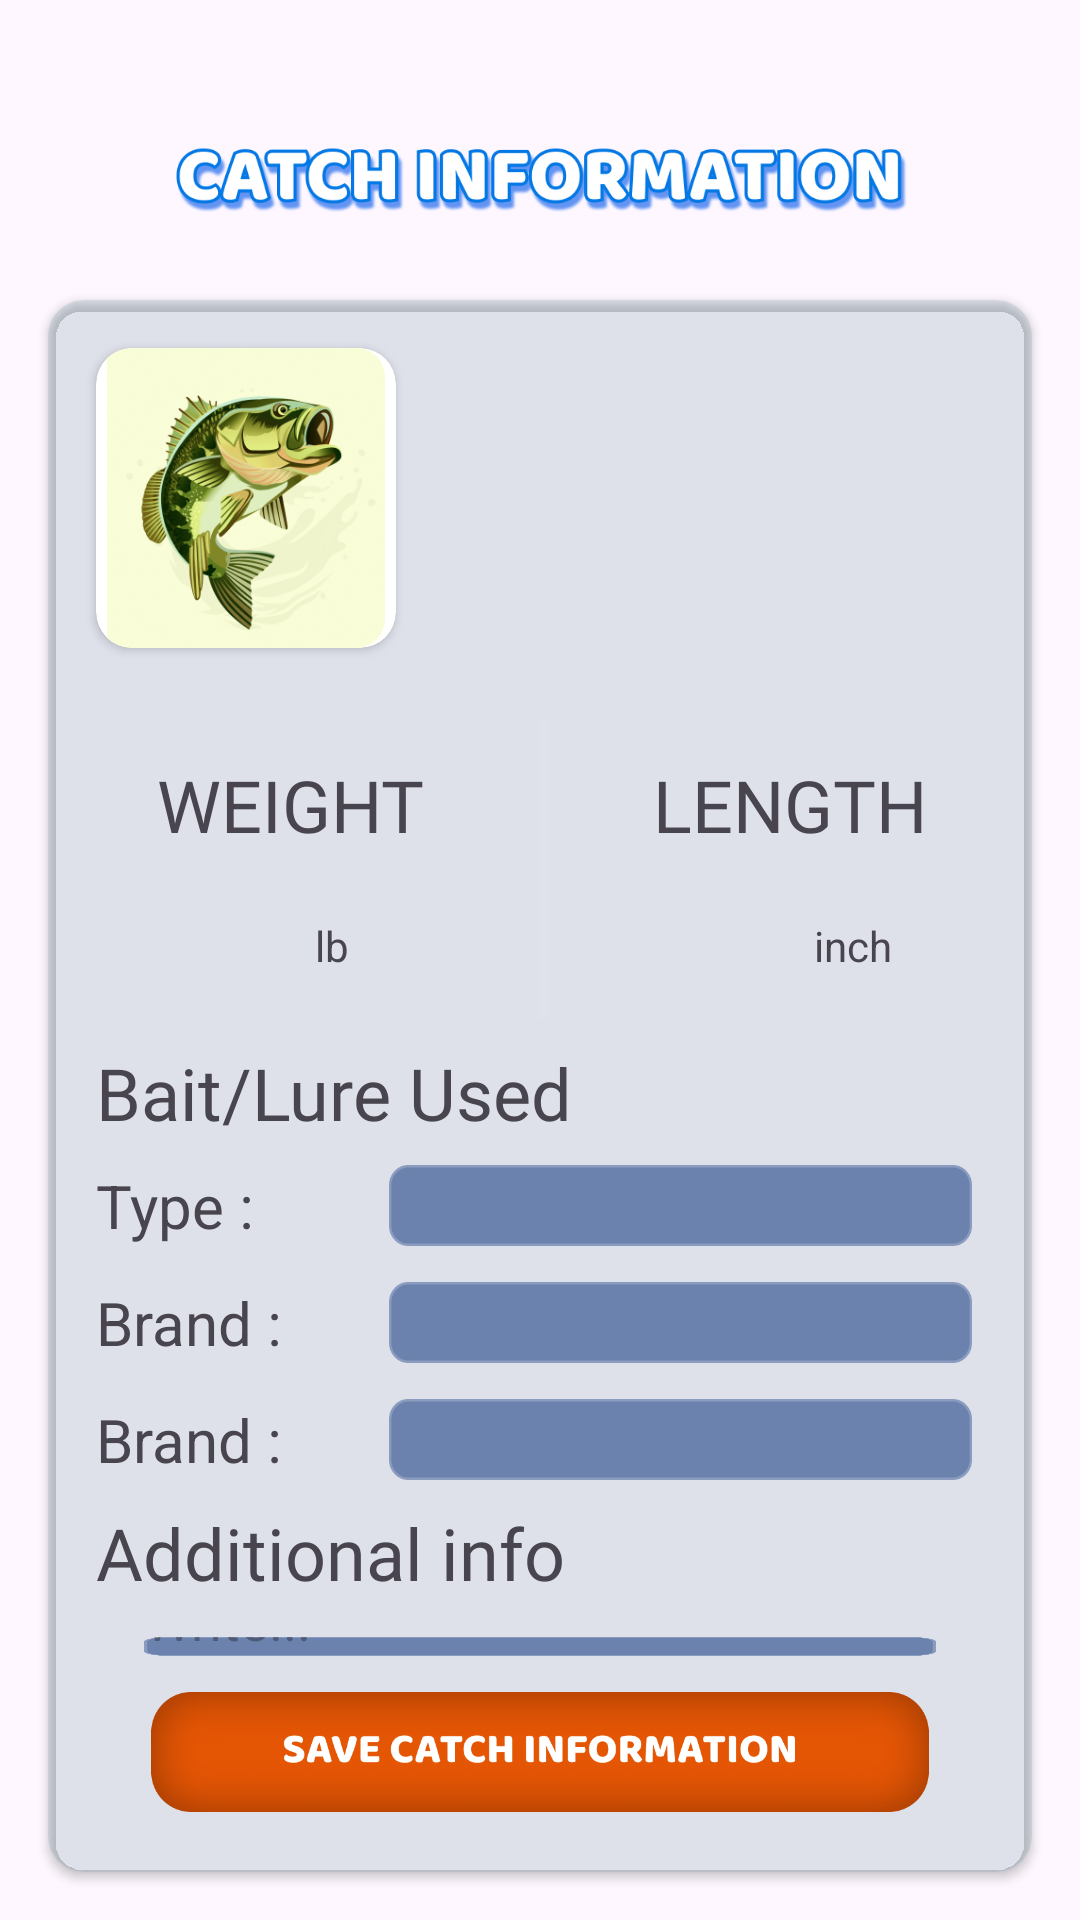

Icon bounding boxes for this 1080 x 1920 phone screenshot, format (x1=x1, y1=y1, x2=x2, y2=y2):
fish item: (x1=96, y1=348, x2=396, y2=648)
